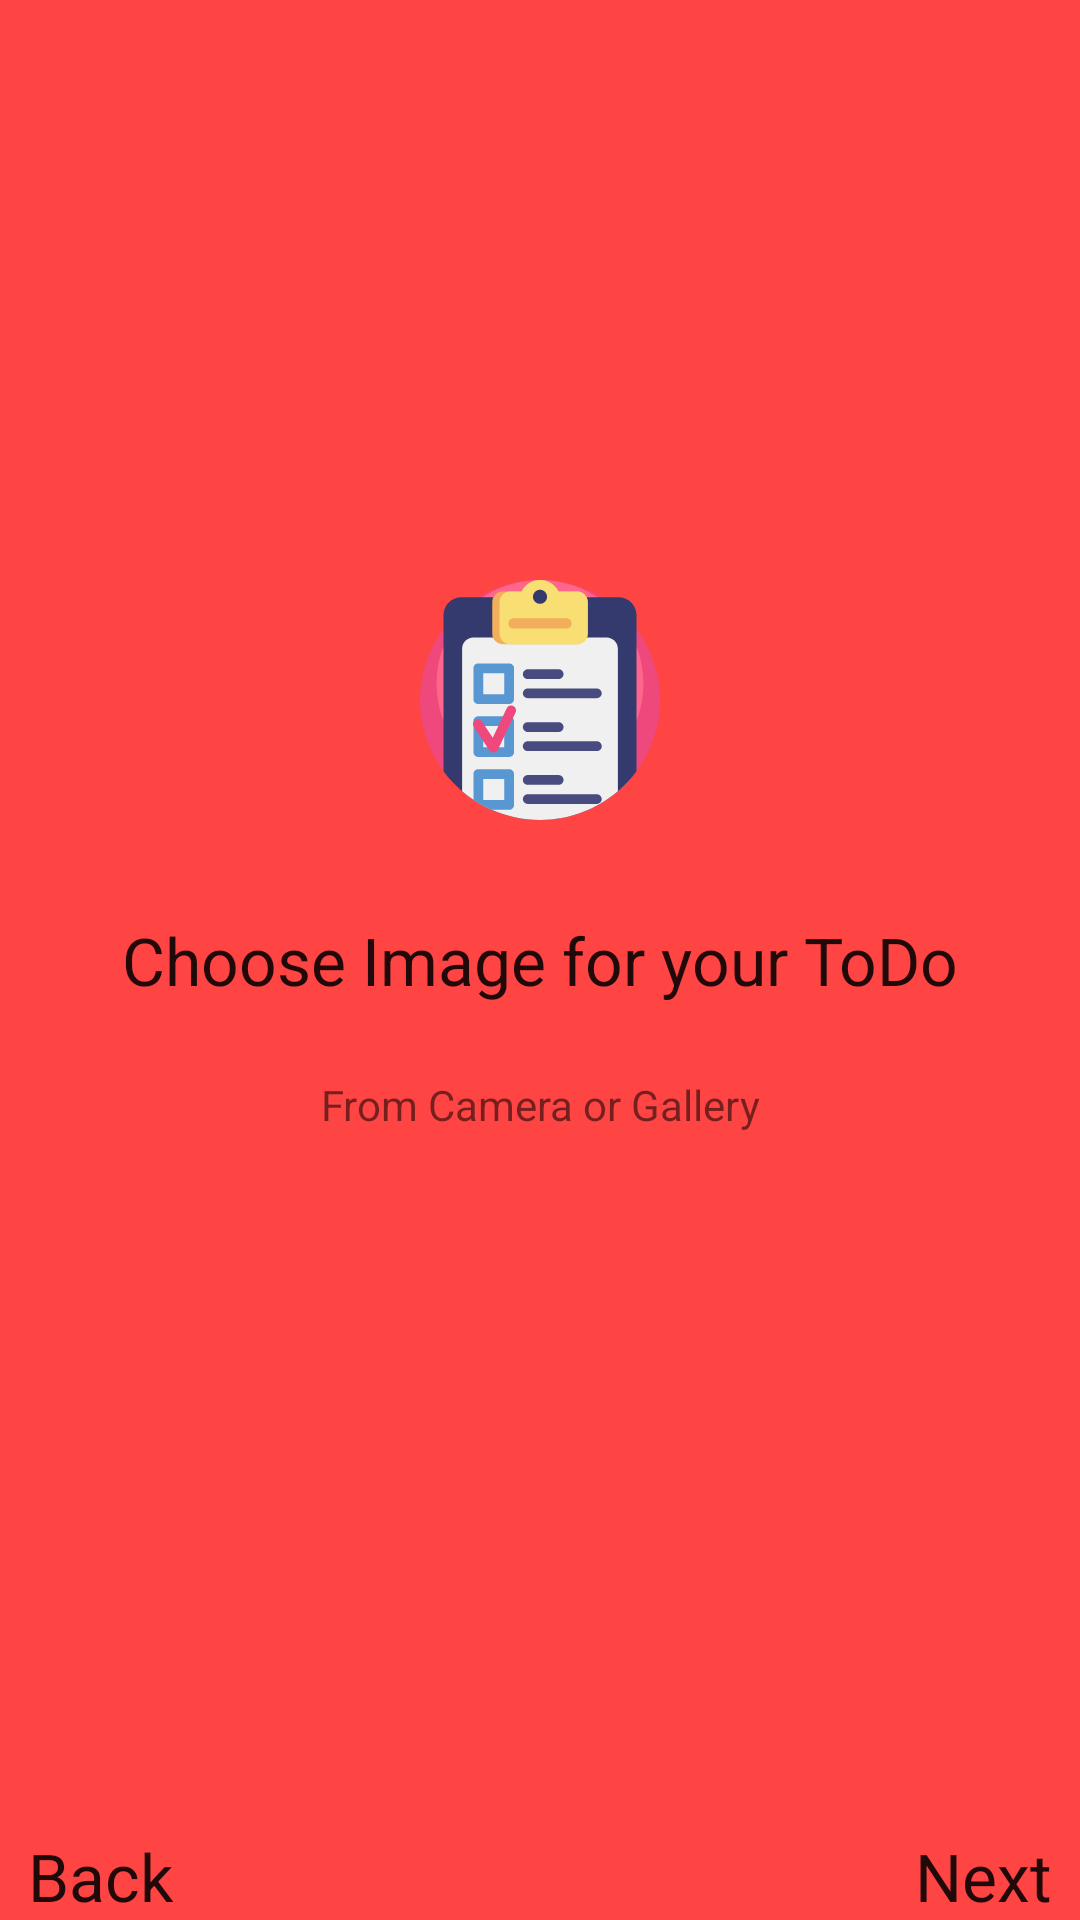

Where icons sit on this 1080 × 1920 app screen, as (x1, y1, x2, y2):
checklist: (420, 580, 660, 820)
